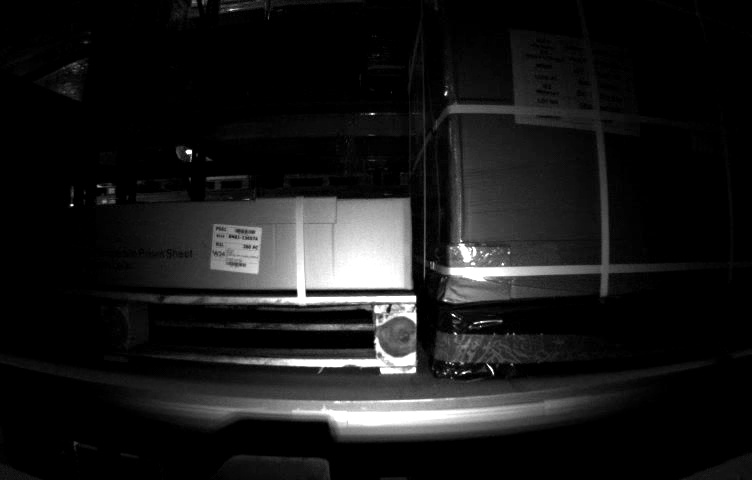True Barcode: (210, 223, 261, 275)
